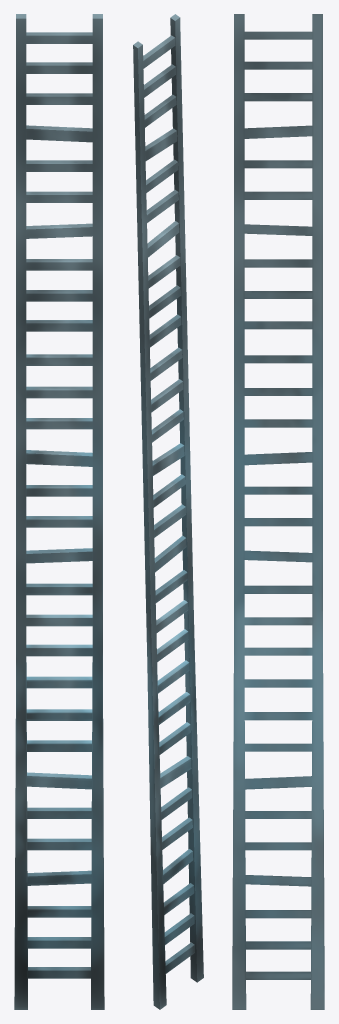
Rendered from EscaleraAlmacen.fbx.
3 renders of one model, left to right at view 1: azimuth 90°, elevation 25°; view 2: azimuth 150°, elevation 25°; view 3: azimuth 270°, elevation 25°, orthographic. The views are drawn at different scales.
Visible parts, largest first — view 1: Escalon_006; view 2: Escalon_006; view 3: Escalon_006.
Boxes of the visible parts, x1,y1,x2,y2 form: Escalon_006: (14, 14, 104, 1009); Escalon_006: (133, 14, 203, 1009); Escalon_006: (232, 14, 324, 1009).
Size of the model in its own units: 59.75 by 1969 by 164.
